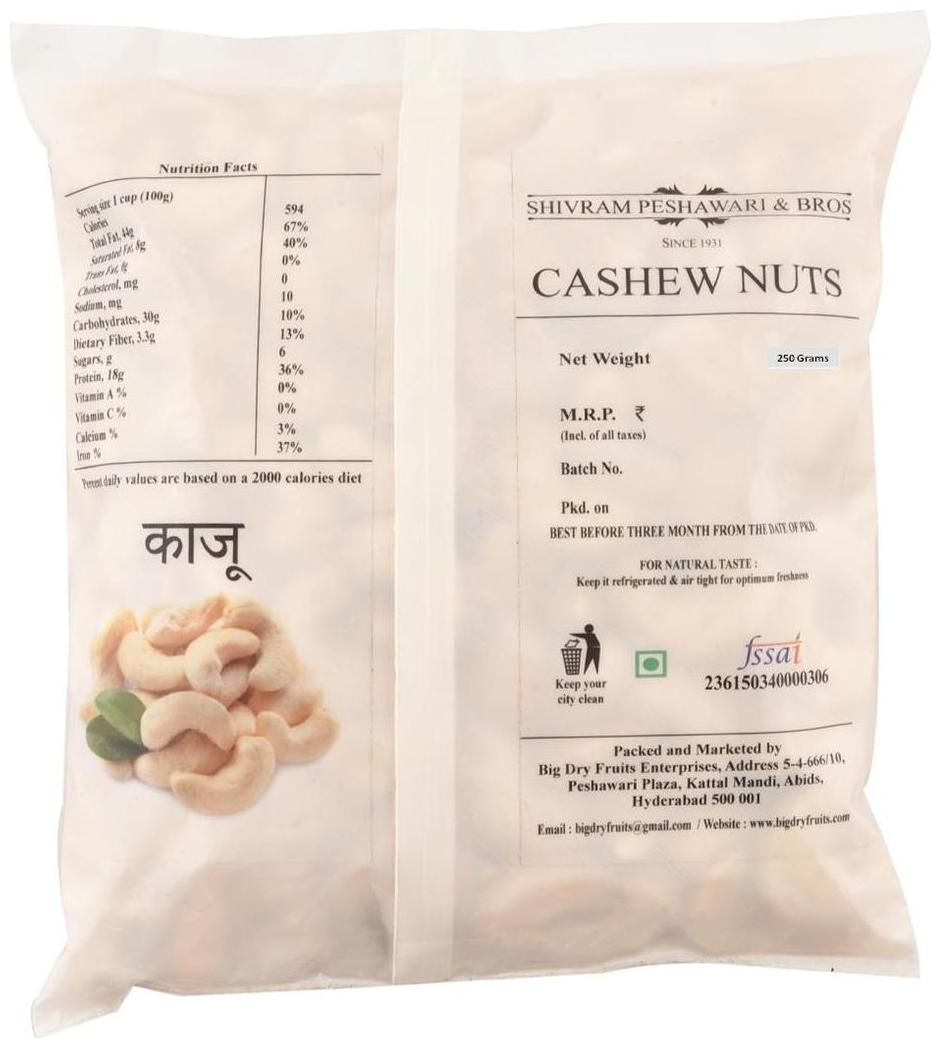fsaai: (735, 633, 806, 671)
